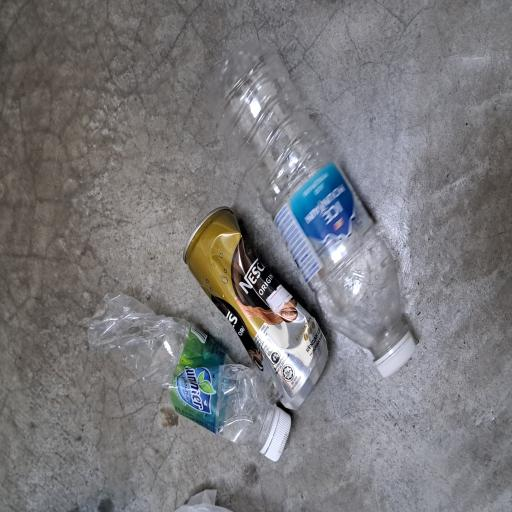can: (74, 244, 228, 440)
plastic bottle: (115, 271, 356, 512), (50, 116, 166, 366)
plastic bottle cap: (36, 351, 78, 392)
